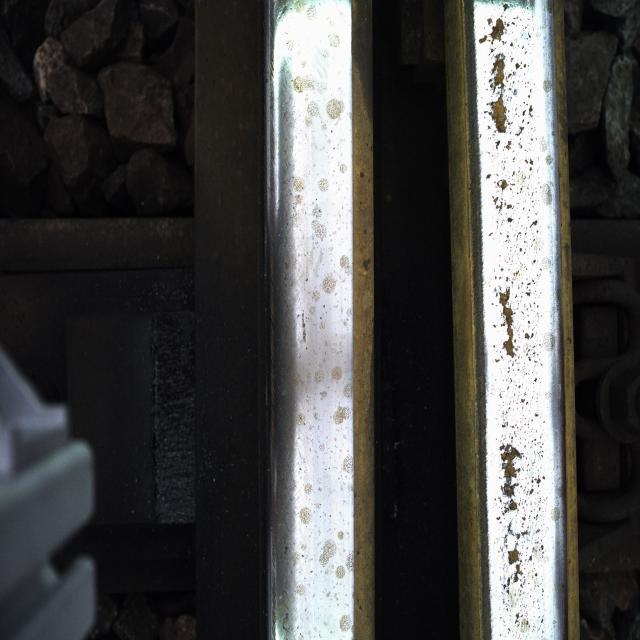scar: (268, 0, 352, 601), (472, 274, 546, 388), (475, 5, 536, 143), (492, 444, 542, 591)
